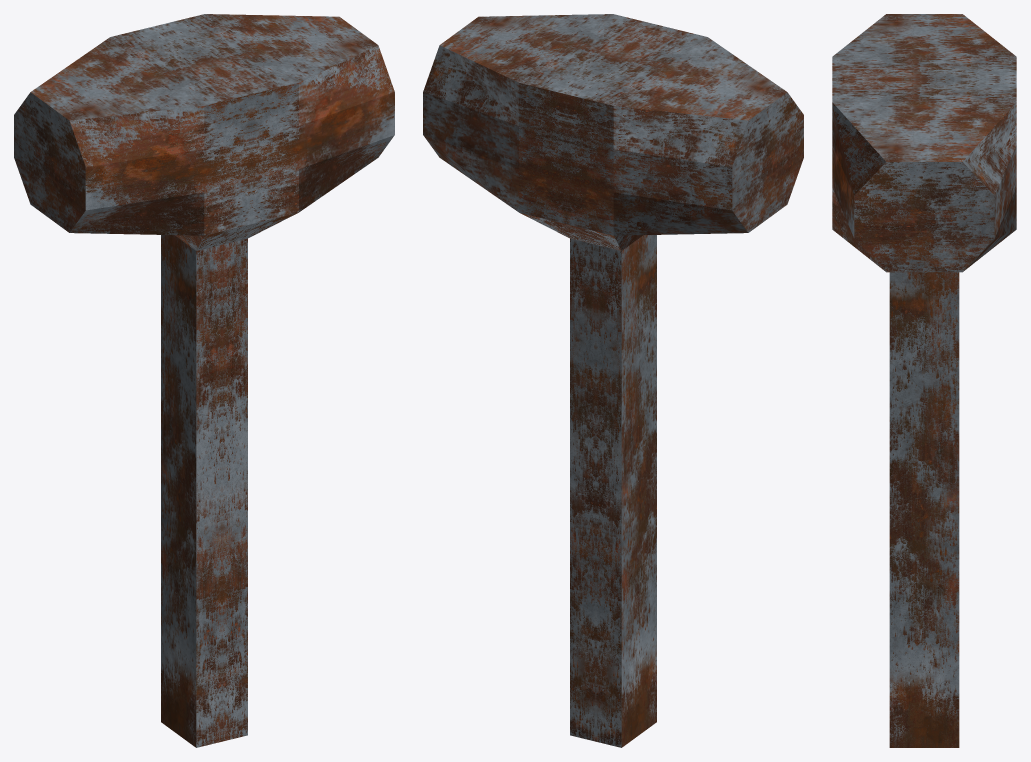
The model's file is hammer.obj.
3 views of the same model, side by side, from view 1: azimuth 30°, elevation 25°; view 2: azimuth 150°, elevation 25°; view 3: azimuth 270°, elevation 25° (orthographic).
Visible parts, largest first — view 1: ps1_hammer.002; view 2: ps1_hammer.002; view 3: ps1_hammer.002.
Part boxes in pixels (x1=…): ps1_hammer.002: x1=14, y1=14, x2=394, y2=747; ps1_hammer.002: x1=423, y1=14, x2=803, y2=747; ps1_hammer.002: x1=832, y1=14, x2=1016, y2=747.
Size of the model in its own units: 0.2773 by 0.5734 by 0.1461.
Materials: 1 (1 with a texture image).
